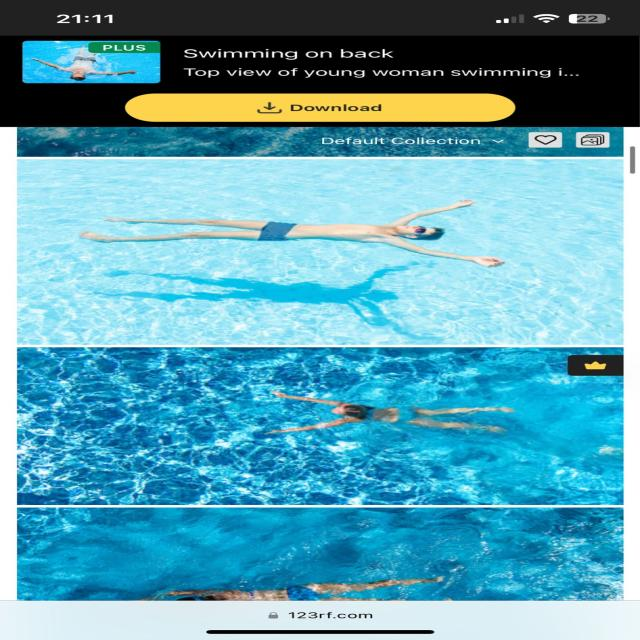Swimming: (81, 203, 508, 266), (262, 383, 523, 442), (145, 578, 462, 600)
